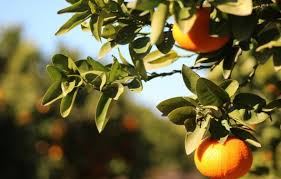orange: (189, 130, 253, 178), (167, 10, 231, 51)
